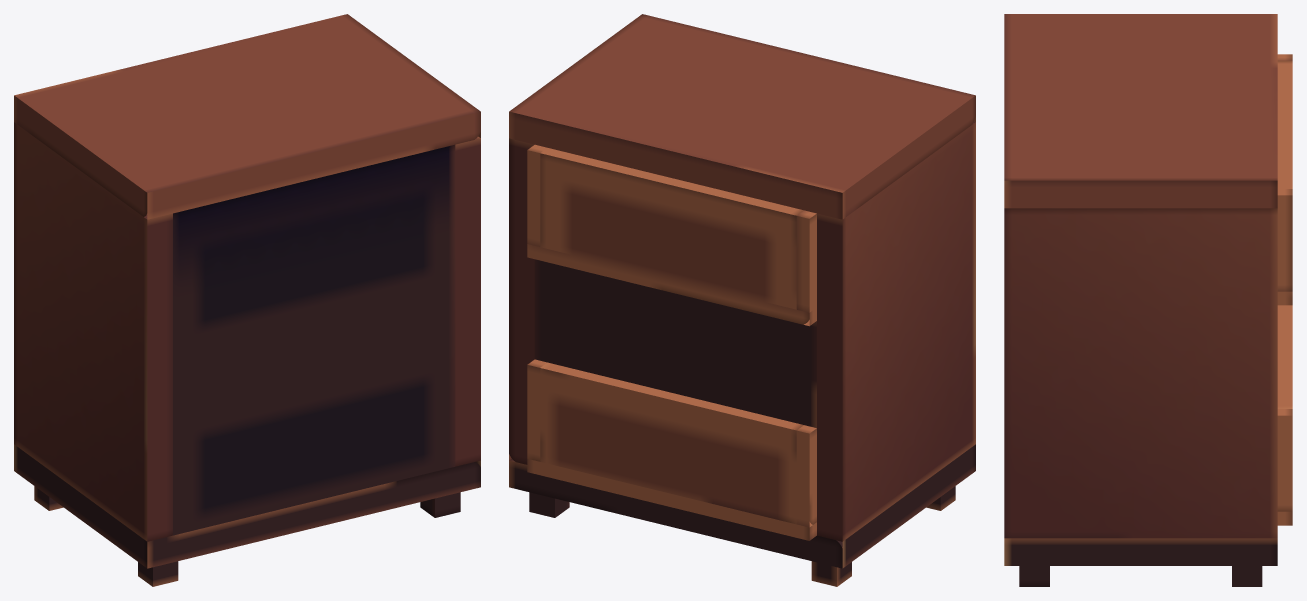
File: Drawers.fbx
3 renders of one model, left to right at view 1: azimuth 30°, elevation 25°; view 2: azimuth 150°, elevation 25°; view 3: azimuth 270°, elevation 25°, orthographic. The views are drawn at different scales.
Parts seen in each view (by area): view 1: cube_7, cube_9, cube_6, cube, cube_5, cube_3, cube_2; view 2: cube_9, cube_6, cube_8, cube_18, cube_13, cube, cube_5, cube_15, cube_10, cube_11, cube_16, cube_17 (+3 smaller); view 3: cube_5, cube_9, cube, cube_13, cube_18, cube_12, cube_17, cube_1, cube_2.
Boxes of the visible parts, x1,y1,x2,y2 form: cube_7: (173,144,455,535); cube_9: (14,14,480,219); cube_6: (14,122,172,541); cube: (14,444,480,568); cube_5: (455,137,480,466); cube_3: (138,561,178,586); cube_2: (420,492,460,517); cube_9: (509,14,975,219); cube_6: (817,122,975,541); cube_8: (534,259,816,427); cube_18: (540,362,803,524); cube_13: (540,148,803,309); cube: (509,444,975,568); cube_5: (509,138,534,464); cube_15: (527,459,816,540); cube_10: (527,244,816,326); cube_11: (796,210,816,312); cube_16: (796,425,816,527); cube_17: (527,359,547,461); cube_5: (1004,208,1277,538); cube_9: (1004,14,1277,208); cube: (1004,538,1277,565); cube_13: (1277,60,1292,188); cube_18: (1277,305,1292,408); cube_12: (1277,189,1292,291); cube_17: (1277,409,1292,511); cube_1: (1232,566,1262,586); cube_2: (1019,566,1049,586).
Bounding box in the file's own units: 162 × 188 × 119.
1 material, 1 textured.
